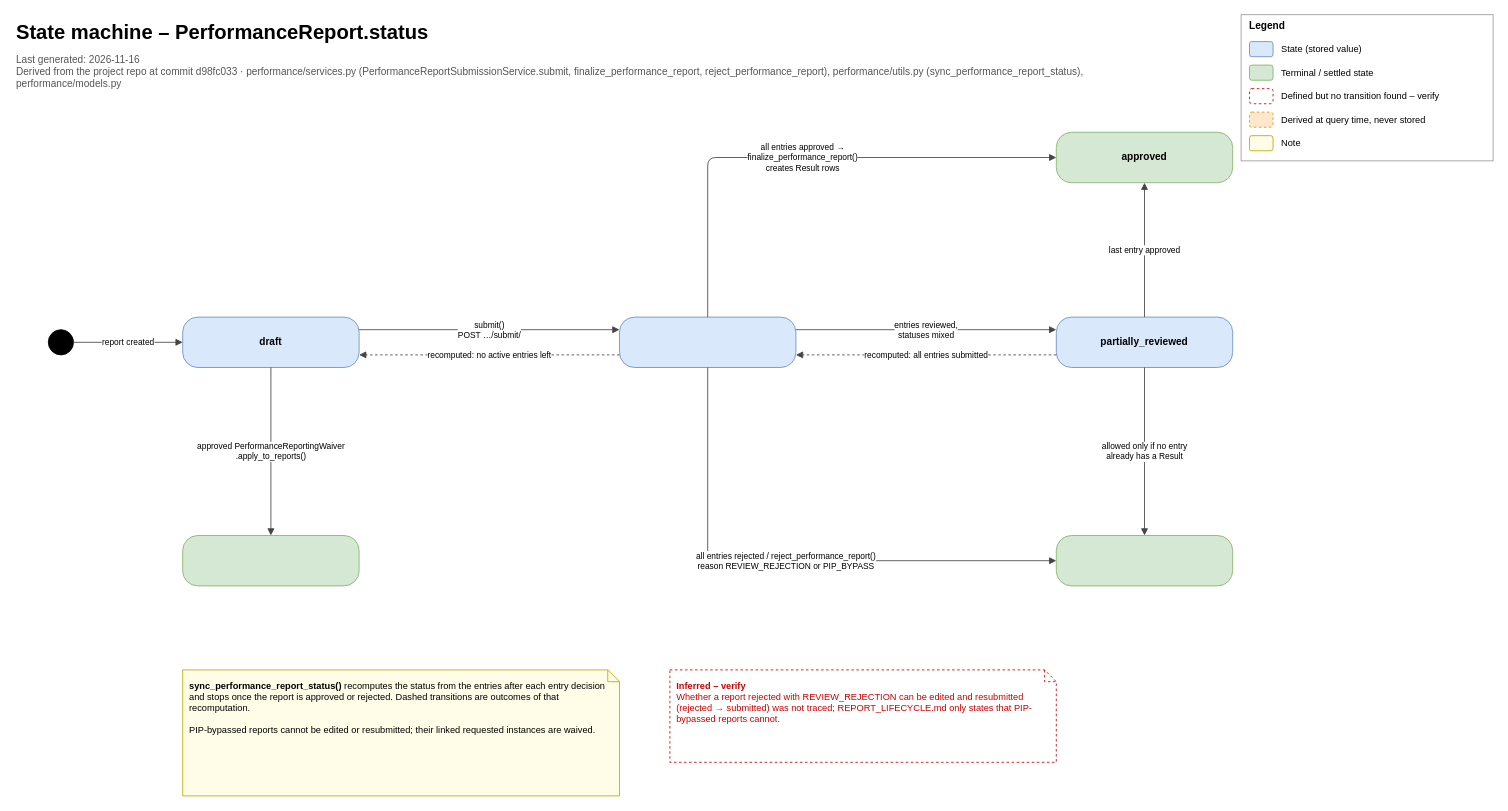
Some shapes in this 1508 by 811 pixel diagram are drawn without their labels. Here are the shapes that lost their labels. From the top down, the centre of each, then its label:
At point (707, 342): "submitted".
At point (270, 560): "waived".
At point (1144, 560): "rejected".
